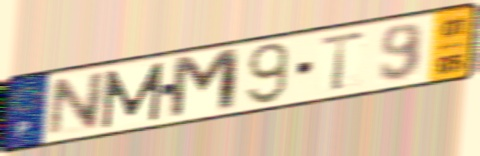9: (242, 41, 292, 107), (378, 21, 424, 84)
M: (166, 45, 243, 123), (100, 59, 167, 131)
N: (44, 68, 109, 140)
T: (317, 28, 369, 94)
